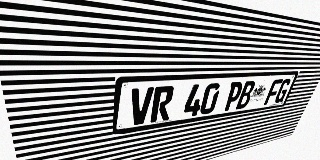0: (199, 83, 222, 115)
4: (182, 84, 206, 118)
B: (235, 81, 256, 109)
F: (264, 79, 283, 105)
G: (273, 78, 292, 104)
P: (223, 81, 244, 111)
R: (150, 86, 175, 123)
V: (128, 87, 154, 126)
